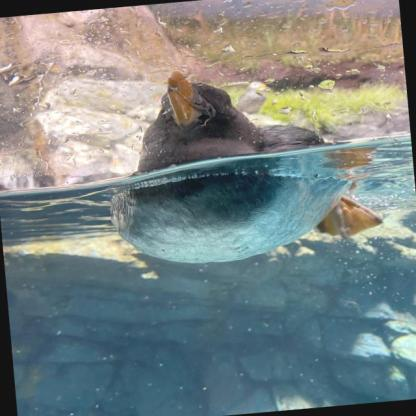puffin: (98, 51, 390, 284)
